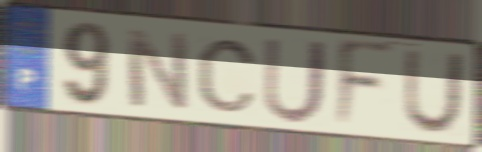9: (59, 19, 116, 109)
C: (194, 36, 259, 115)
F: (332, 36, 398, 134)
N: (123, 25, 192, 113)
U: (261, 35, 331, 127), (400, 48, 467, 137)
